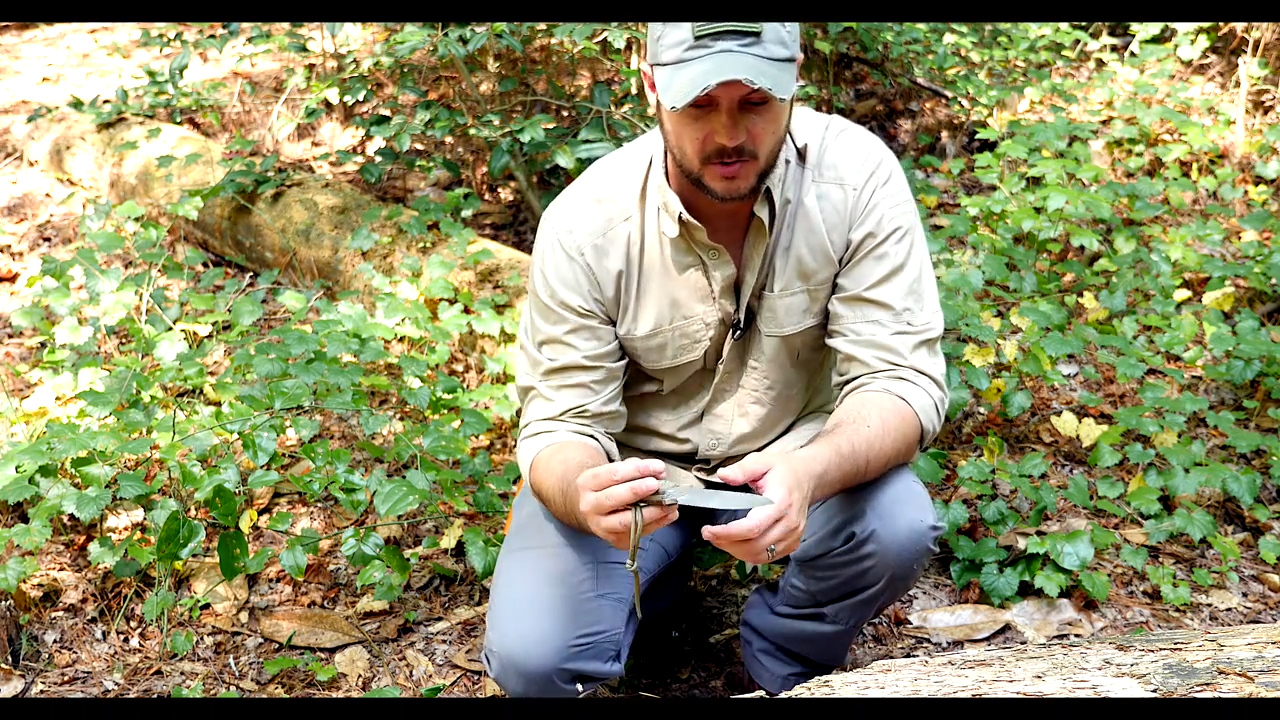knife: (566, 450, 788, 547)
